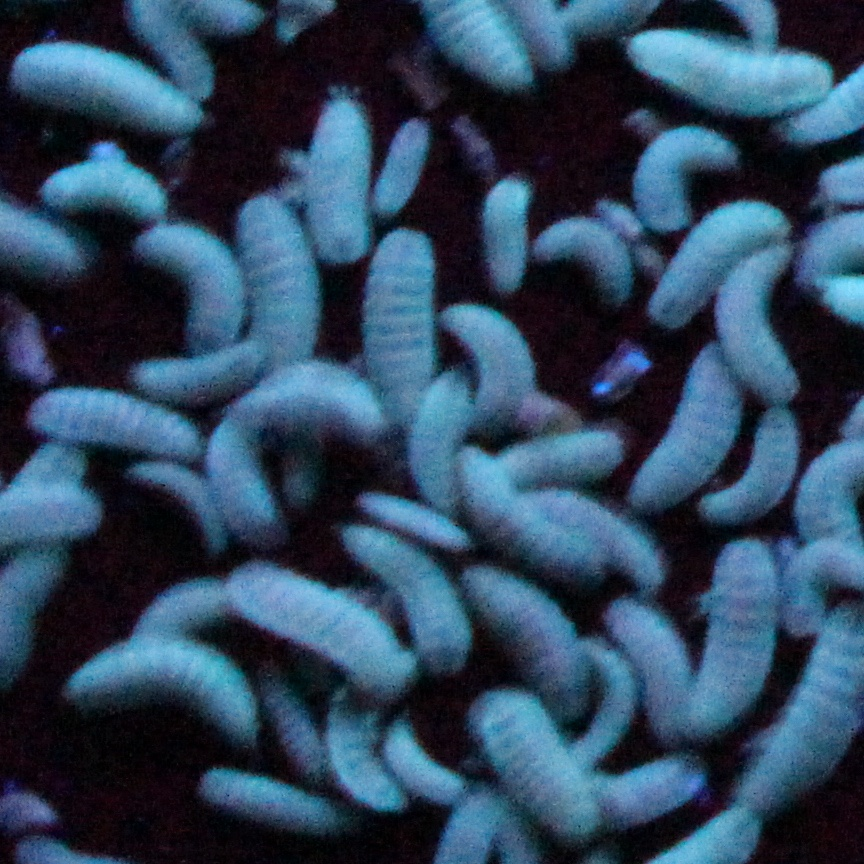larve: (748, 624, 864, 799), (69, 641, 257, 741), (236, 566, 385, 690), (353, 522, 467, 671), (24, 39, 190, 129), (662, 196, 776, 301), (699, 550, 773, 710), (467, 462, 574, 569), (646, 357, 725, 499), (641, 38, 813, 103), (136, 225, 232, 339), (36, 390, 204, 455), (483, 576, 574, 696), (501, 711, 581, 832), (734, 248, 797, 401), (443, 303, 525, 420), (639, 124, 731, 227), (202, 766, 346, 831), (371, 236, 429, 397), (257, 362, 381, 432), (315, 104, 369, 259), (248, 206, 302, 359), (713, 417, 785, 527), (560, 494, 648, 580), (794, 534, 864, 638), (45, 159, 160, 222), (624, 604, 685, 722), (222, 413, 281, 534), (538, 224, 629, 299), (262, 668, 324, 773), (136, 459, 220, 536), (608, 750, 704, 815), (336, 718, 399, 811), (504, 431, 622, 480), (418, 369, 459, 496), (367, 492, 462, 545), (395, 734, 462, 801), (139, 580, 225, 629), (138, 360, 250, 397), (488, 176, 525, 283), (15, 439, 83, 490), (383, 120, 420, 211), (595, 648, 627, 746)
